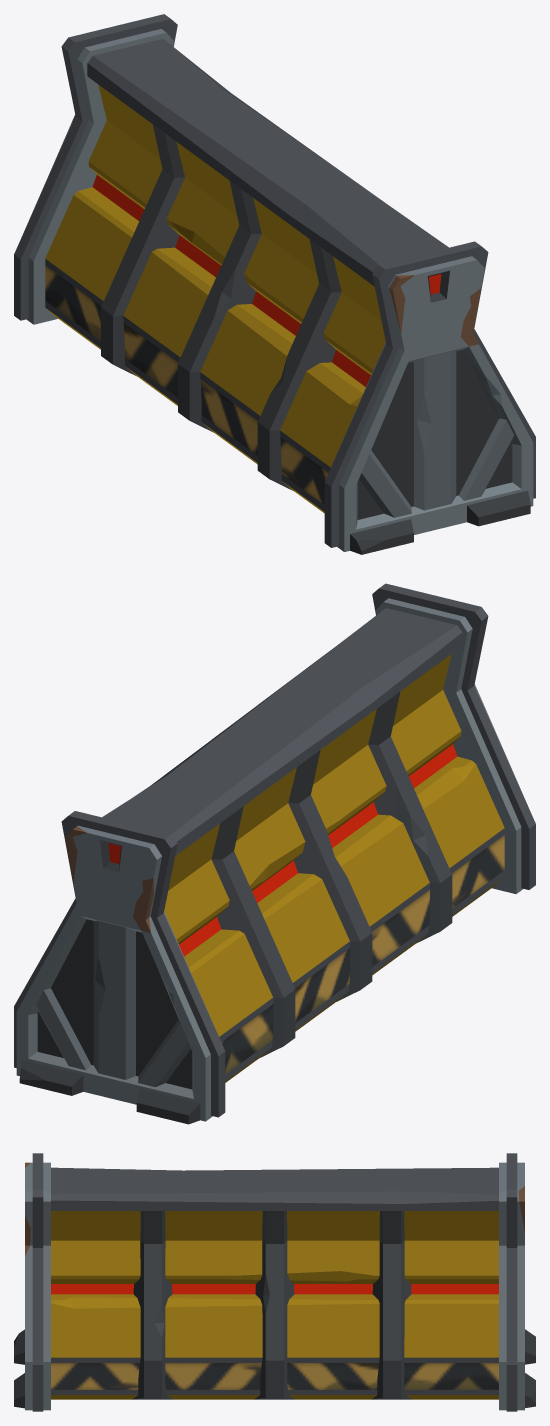
File: SM_Prop_Barricade_Military_01.fbx
The picture shows the model from 3 angles, top to bottom: view 1: azimuth 30°, elevation 25°; view 2: azimuth 150°, elevation 25°; view 3: azimuth 270°, elevation 25°; orthographic projection. The views are drawn at different scales.
Parts seen in each view (by area): view 1: SM_Prop_Barricade_Military_01; view 2: SM_Prop_Barricade_Military_01; view 3: SM_Prop_Barricade_Military_01.
Part boxes in pixels (x1,y1,x2,y2): SM_Prop_Barricade_Military_01: (14, 14, 535, 554); SM_Prop_Barricade_Military_01: (14, 583, 535, 1124); SM_Prop_Barricade_Military_01: (14, 1153, 535, 1411).
Bounding box in the file's own units: 83.09 × 104 × 241.
